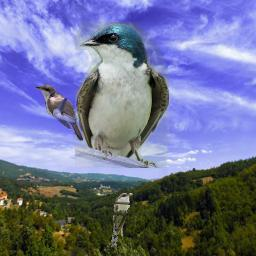Cuckoo: (34, 83, 83, 142), (111, 193, 133, 247)
Swallow: (75, 22, 169, 168)
